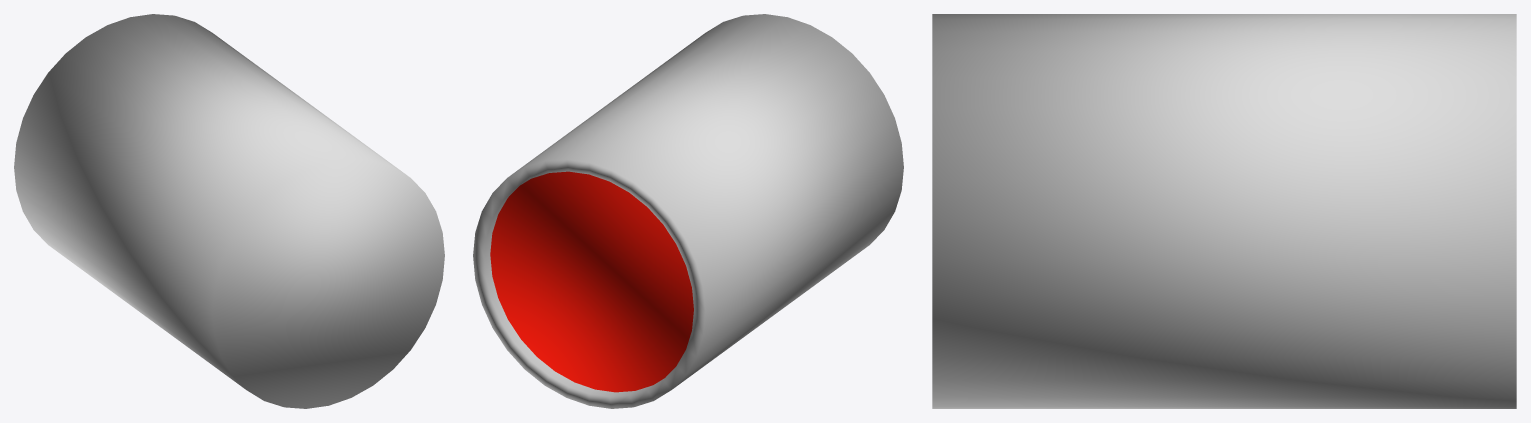
The model's file is RocketLauncher.fbx.
3 renders of one model, left to right at view 1: azimuth 30°, elevation 25°; view 2: azimuth 150°, elevation 25°; view 3: azimuth 270°, elevation 25°, orthographic. The views are drawn at different scales.
Visible parts, largest first — view 1: Cylinder; view 2: Cylinder; view 3: Cylinder.
Boxes of the visible parts, bbox=[...] form: Cylinder: bbox=[14, 14, 444, 408]; Cylinder: bbox=[473, 14, 903, 408]; Cylinder: bbox=[932, 14, 1516, 408].
Bounding box in the file's own units: 200 × 200 × 296.
